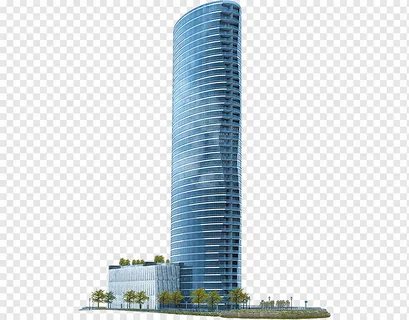high_rise_building: (164, 3, 249, 279)
